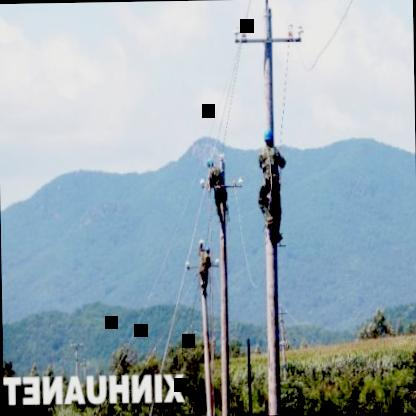helmet: (264, 124, 274, 148)
